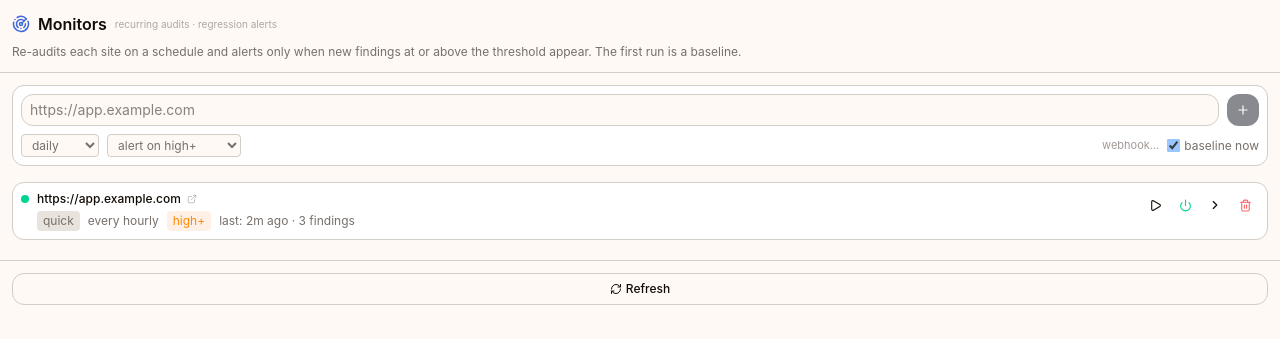
Scenario: MonitorsPanel › runs a monitor now and shows the diff result
Check: the text "https://app.example.com" is shown, box [37,191,181,207]
Click the button named "Run monitor 1 now" at point(1155, 205), box [1141,191,1169,219]
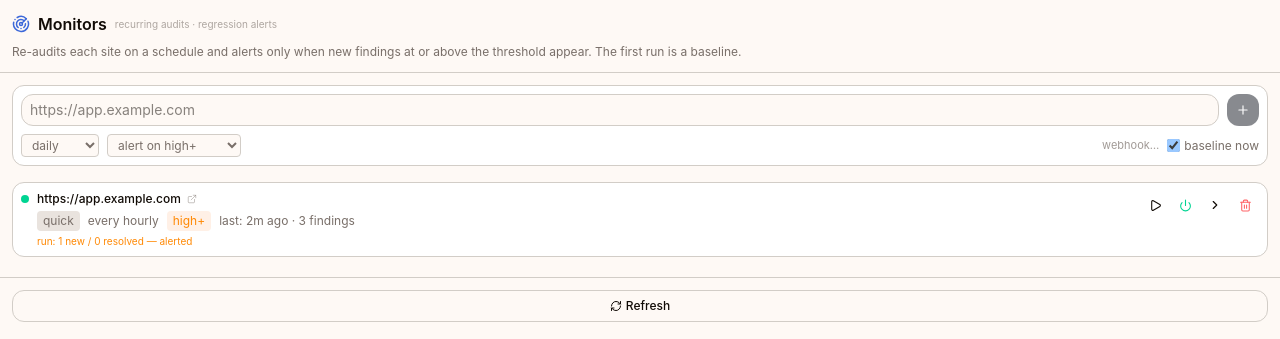
Check: the text "run: 1 new / 0 resolved — alerted" is shown, box [37,235,192,247]
